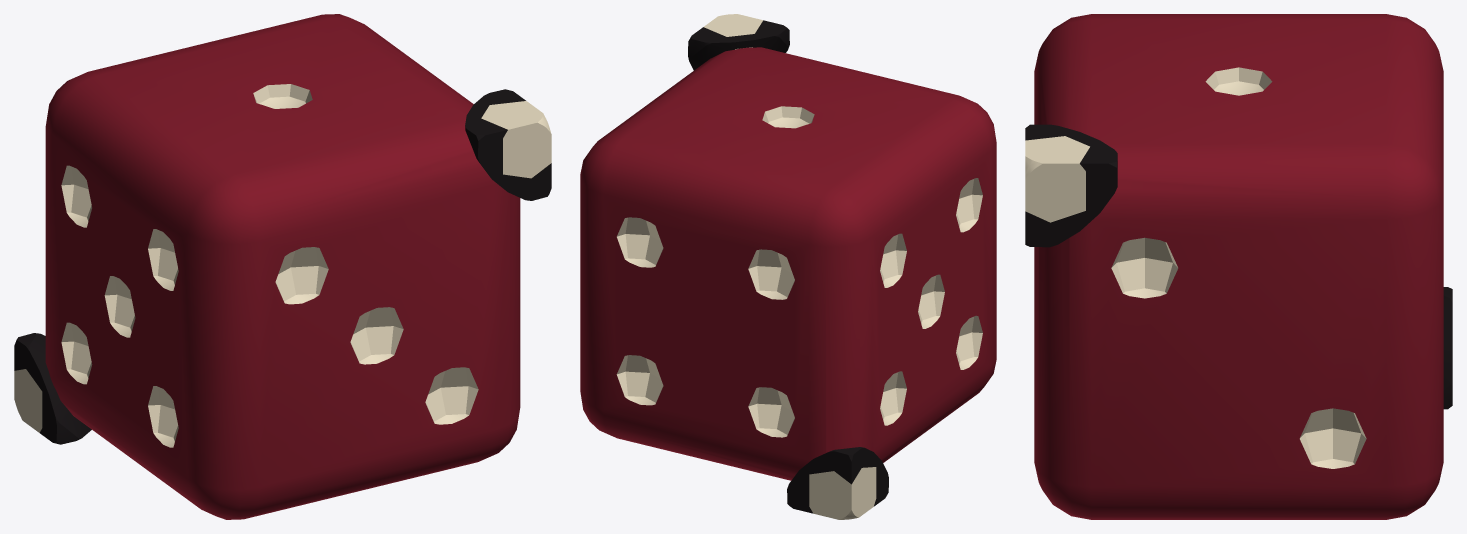
File: blood_pact_d6.glb
3 renders of one model, left to right at view 1: azimuth 30°, elevation 25°; view 2: azimuth 150°, elevation 25°; view 3: azimuth 270°, elevation 25°, orthographic. The views are drawn at different scales.
Visible parts, largest first — view 1: BloodPactD6; view 2: BloodPactD6; view 3: BloodPactD6.
Part boxes in pixels (x1=…): BloodPactD6: x1=14, y1=14, x2=551, y2=519; BloodPactD6: x1=580, y1=14, x2=996, y2=519; BloodPactD6: x1=1025, y1=14, x2=1452, y2=519.
Bounding box in the file's own units: 0.0836 × 0.0836 × 0.0836.
